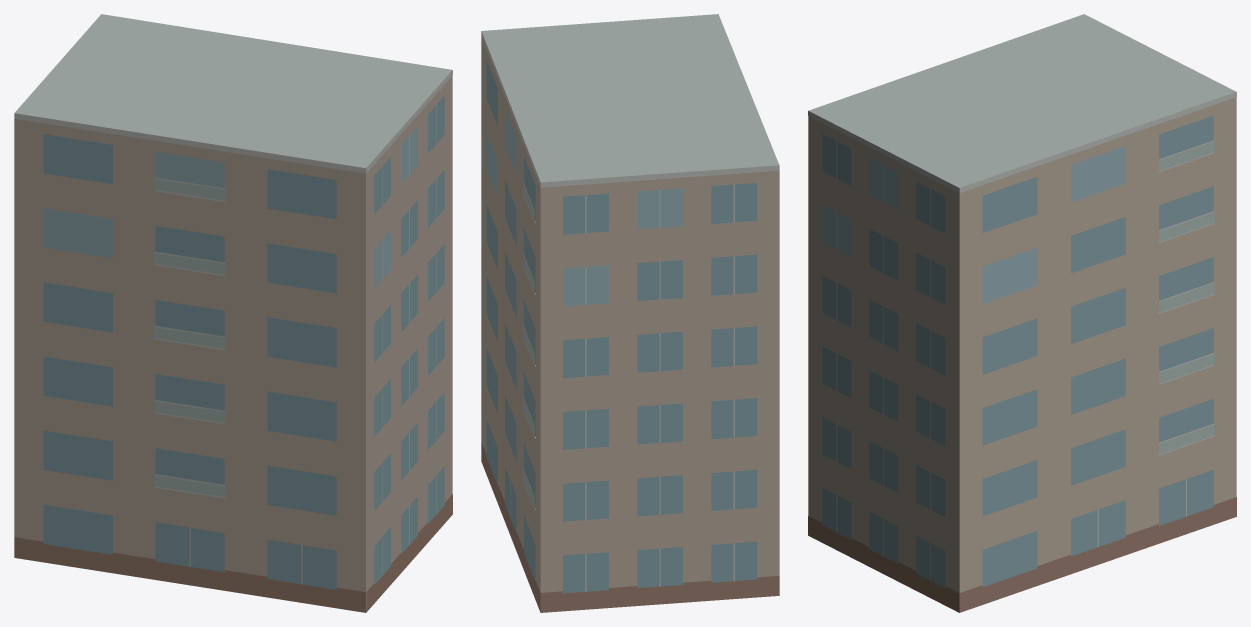
File: survey-upis-33041135.glb
The picture shows the model from 3 angles, left to right: view 1: azimuth 30°, elevation 25°; view 2: azimuth 150°, elevation 25°; view 3: azimuth 270°, elevation 25°; orthographic projection. The views are drawn at different scales.
Parts seen in each view (by area): view 1: survey-upis-33041135.tmp; view 2: survey-upis-33041135.tmp; view 3: survey-upis-33041135.tmp.
Part boxes in pixels (<box>): survey-upis-33041135.tmp: <box>14,14,452,612</box>; survey-upis-33041135.tmp: <box>481,14,779,612</box>; survey-upis-33041135.tmp: <box>808,14,1236,612</box>.
Bounding box in the file's own units: 17.4 × 19.8 × 18.11.
